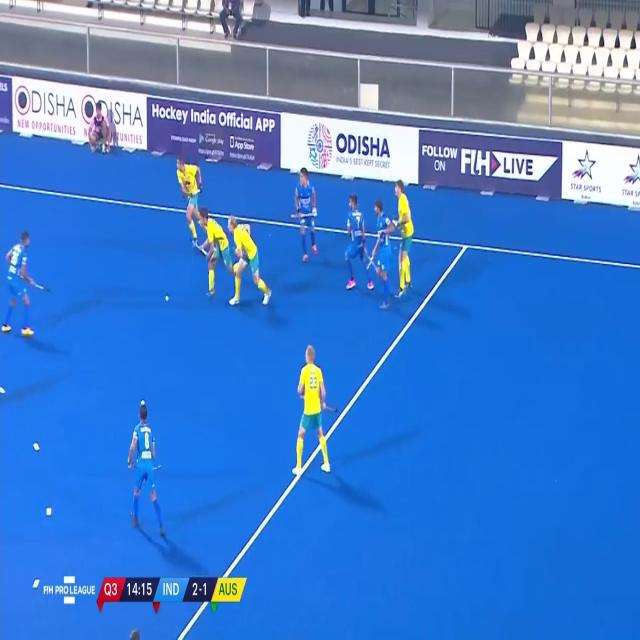ball: (163, 294, 172, 303)
